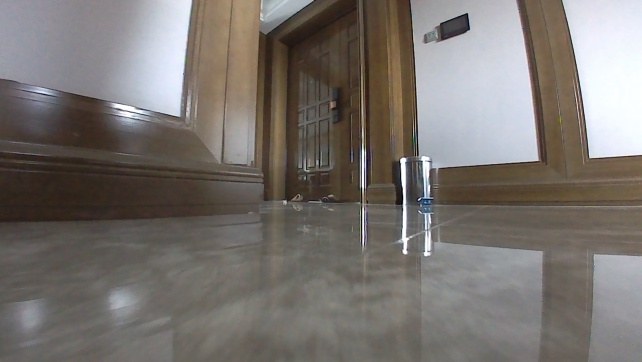door: (262, 0, 376, 212)
slipper: (317, 193, 345, 205), (285, 193, 310, 201)
